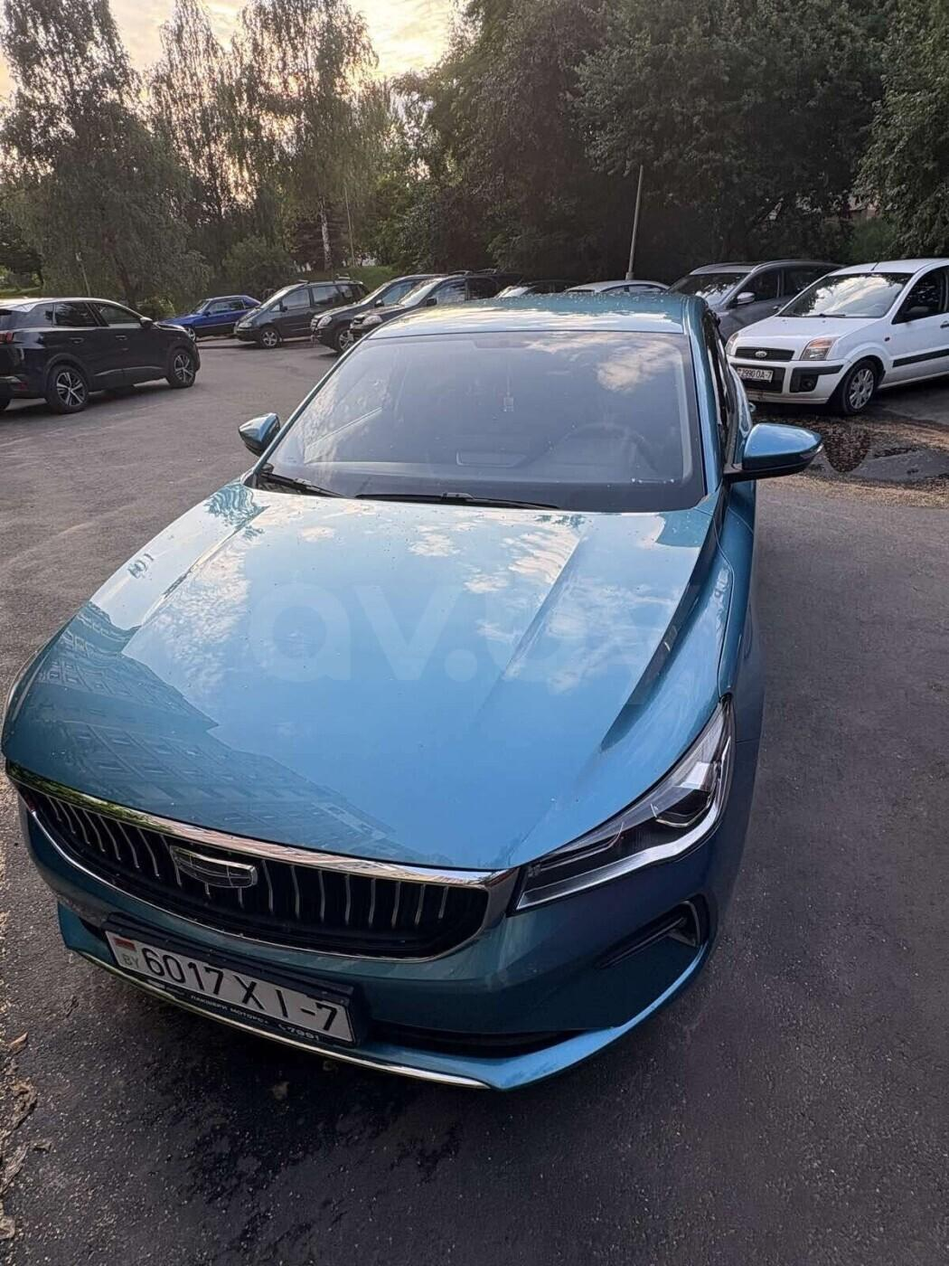Emgrand_2021: (0, 288, 822, 1101)
